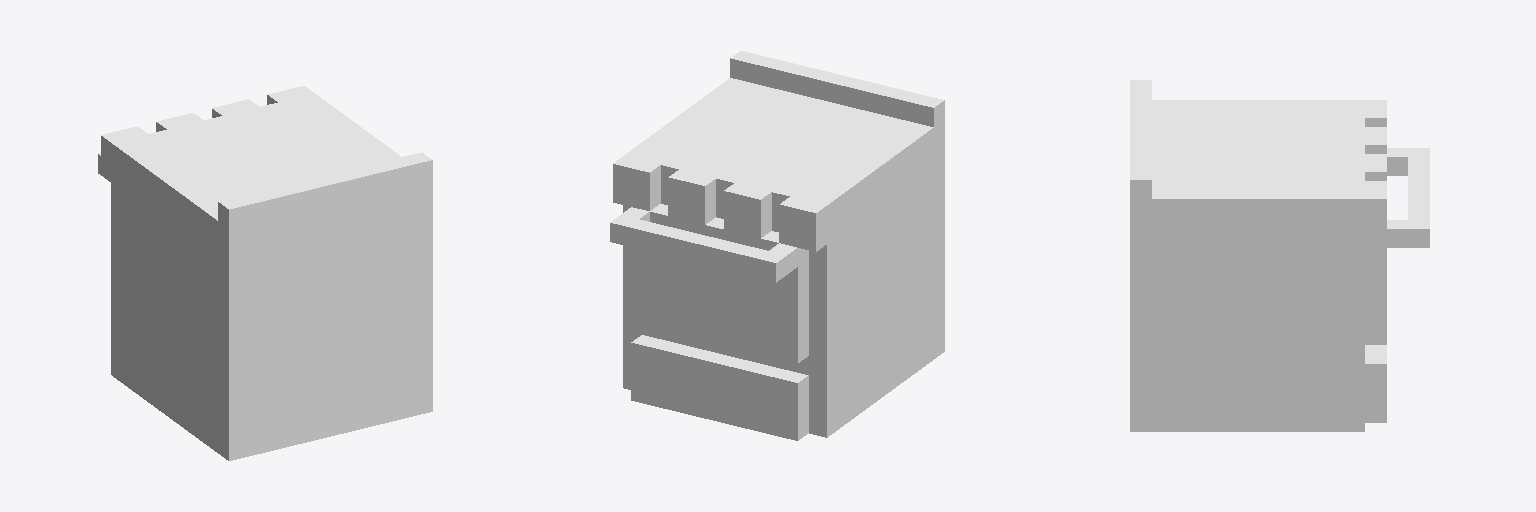
Rendered from apt:oven.obj.
3 views of the same model, side by side, from view 1: azimuth 30°, elevation 25°; view 2: azimuth 150°, elevation 25°; view 3: azimuth 270°, elevation 25° (orthographic).
Visible parts, largest first — view 1: apt:oven; view 2: apt:oven; view 3: apt:oven.
Part boxes in pixels (bbox=[...]): apt:oven: bbox=[98, 86, 432, 460]; apt:oven: bbox=[610, 51, 944, 440]; apt:oven: bbox=[1130, 80, 1429, 431].
Bounding box in the file's own units: 11 × 13 × 14.